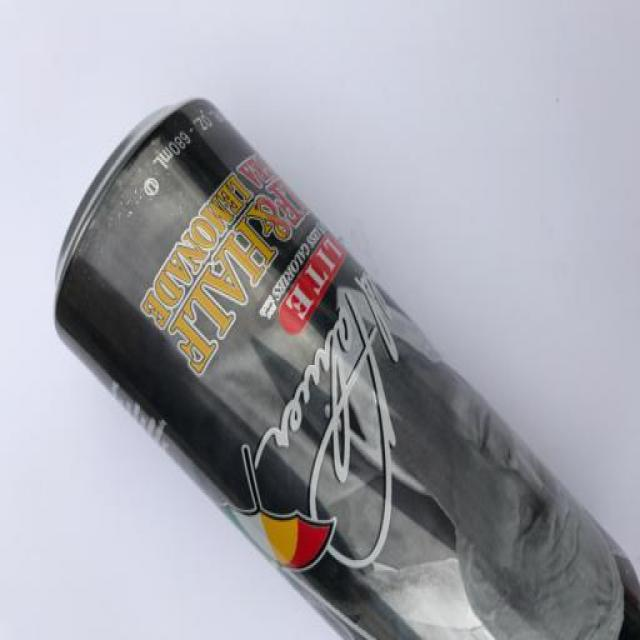metel: (35, 76, 640, 640)
